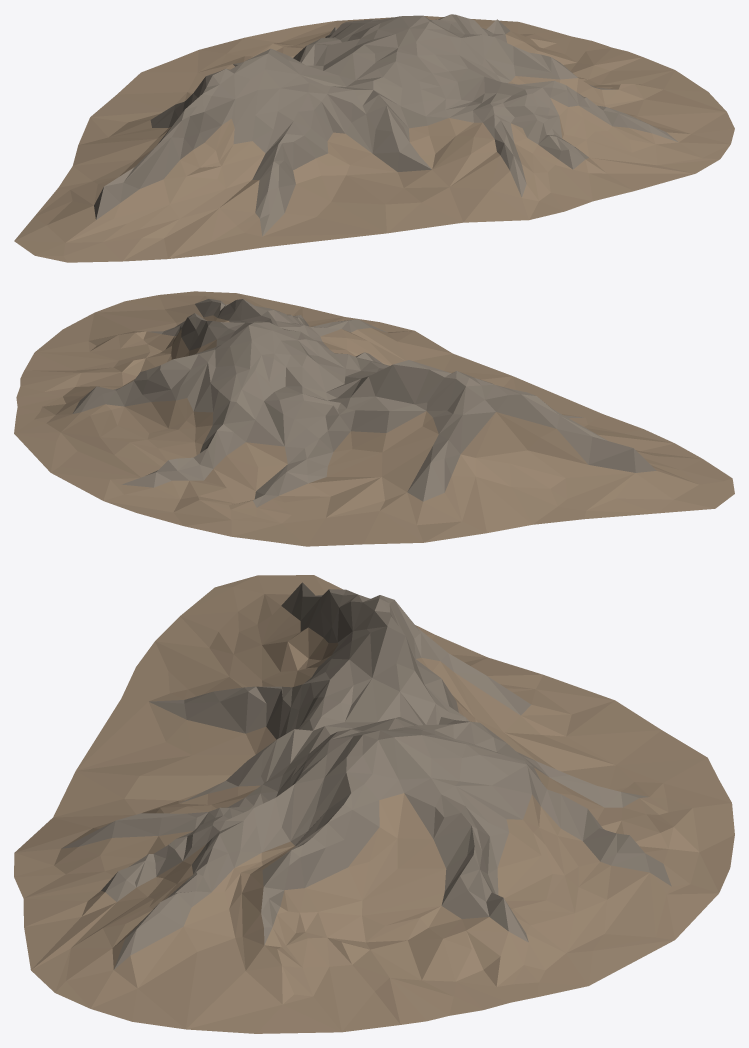
File: SM_Env_Mountain_05.fbx
The picture shows the model from 3 angles, top to bottom: view 1: azimuth 30°, elevation 25°; view 2: azimuth 150°, elevation 25°; view 3: azimuth 270°, elevation 25°; orthographic projection. The views are drawn at different scales.
Parts seen in each view (by area): view 1: SM_Env_Mountain_05; view 2: SM_Env_Mountain_05; view 3: SM_Env_Mountain_05.
Boxes of the visible parts, left/top/right/bottom form: SM_Env_Mountain_05: left=14, top=14, right=734, bottom=262; SM_Env_Mountain_05: left=14, top=291, right=734, bottom=546; SM_Env_Mountain_05: left=14, top=575, right=734, bottom=1033.
Size of the model in its own units: 7743 by 1112 by 5141.
